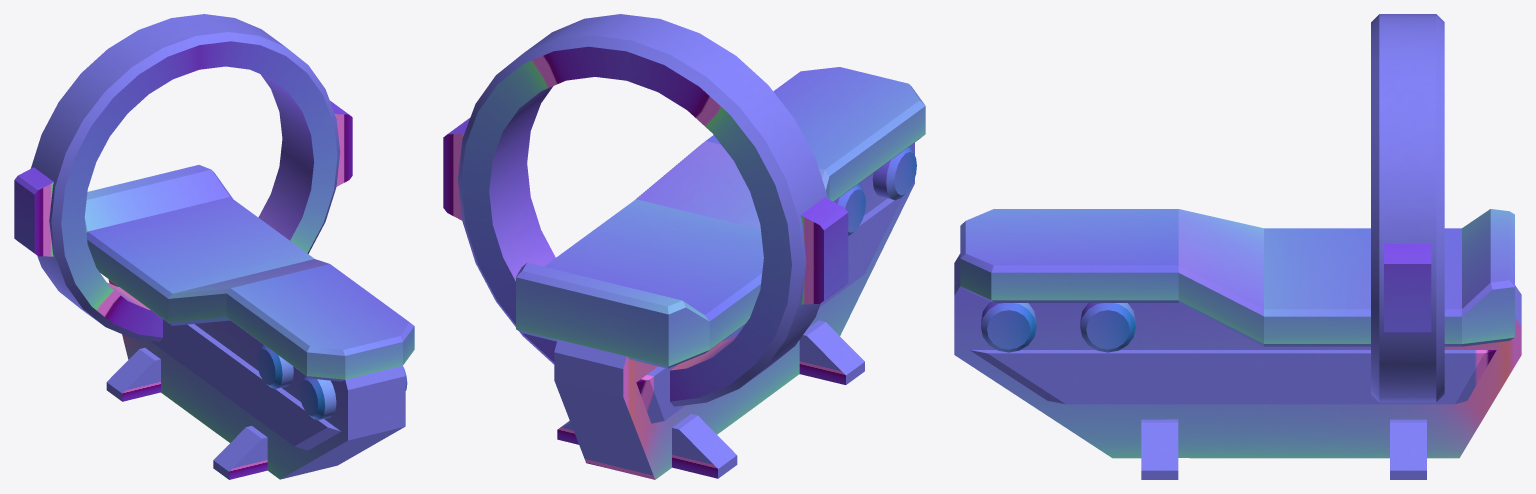
File: medScaner.FBX
3 renders of one model, left to right at view 1: azimuth 30°, elevation 25°; view 2: azimuth 150°, elevation 25°; view 3: azimuth 270°, elevation 25°, orthographic. The views are drawn at different scales.
Visible parts, largest first — view 1: bed, scaner; view 2: bed, scaner; view 3: bed, scaner.
Part boxes in pixels (<box>): bed: <box>84,165,414,479</box>; scaner: <box>14,14,352,341</box>; bed: <box>516,67,925,479</box>; scaner: <box>443,14,848,406</box>; bed: <box>954,209,1521,479</box>; scaner: <box>1371,14,1444,402</box>.
Size of the model in its own units: 144 by 153 by 191.
